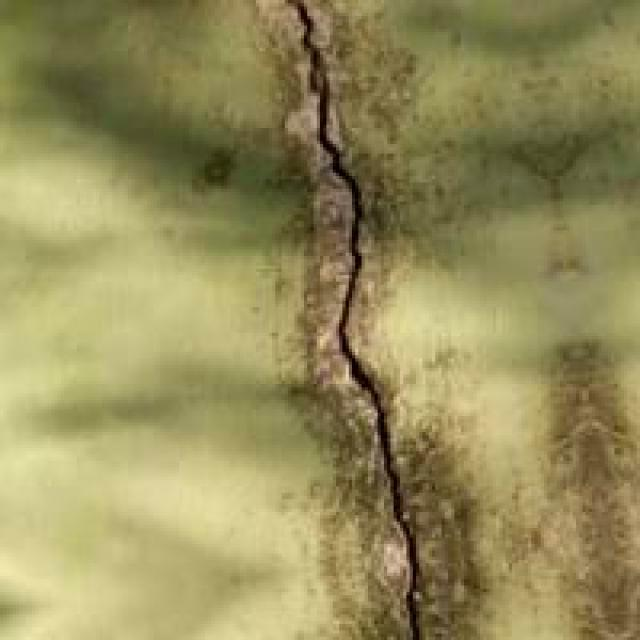SurfaceCrack: (262, 0, 484, 640)
